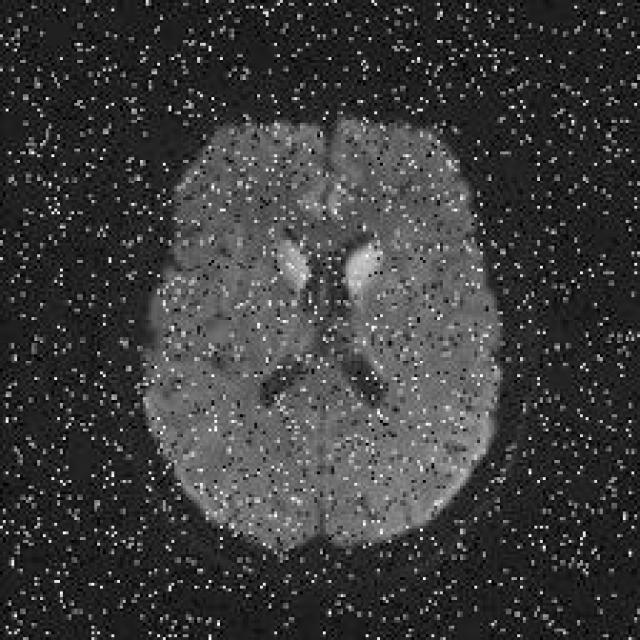no_tumor: (124, 101, 536, 568)
